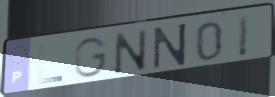0: (193, 19, 226, 62)
G: (73, 35, 111, 80)
I: (236, 11, 252, 59)
L: (37, 43, 65, 86)
N: (151, 20, 189, 72), (112, 26, 149, 77)
